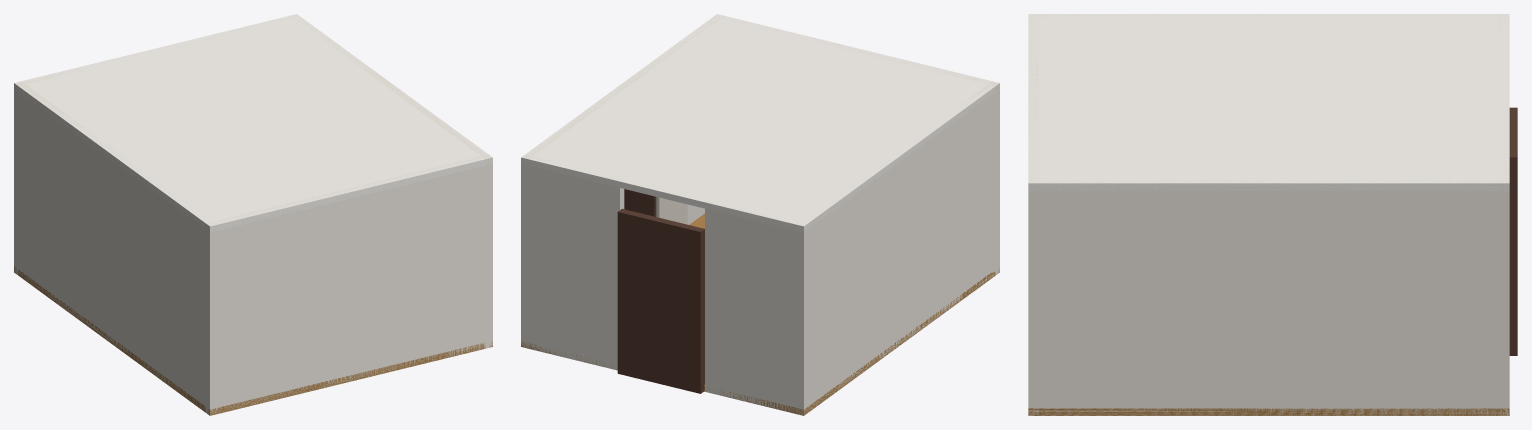
File: 169-Crucero_camarote_familiar.glb
3 renders of one model, left to right at view 1: azimuth 30°, elevation 25°; view 2: azimuth 150°, elevation 25°; view 3: azimuth 270°, elevation 25°, orthographic. The views are drawn at different scales.
Visible parts, largest first — view 1: SM_Cri_familiar_Techo, SM_Cri_familiar_Pared_Popa, SM_Cri_familiar_Pared_Izq, SM_Cri_familiar_Piso, SM_Cri_familiar_Pared_Der, SM_Cri_familiar_Pared_Frente; view 2: SM_Cri_familiar_Techo, SM_Cri_familiar_Pared_Izq, SM_Cri_familiar_Pared_Frente, SM_Cri_familiar_Pared_Frente2, SM_Cri_familiar_Puerta, SM_Cri_familiar_Pared_Der, SM_Cri_familiar_Piso, SM_Cri_familiar_Pared_Popa, SM_Cri_familiar_familiar_familiar_familiar_familiar_familia., SM_Cri_familiar_familiar_familiar_familiar_familiar_familiar; view 3: SM_Cri_familiar_Pared_Der, SM_Cri_familiar_Techo, SM_Cri_familiar_Piso, SM_Cri_familiar_Pared_Frente2, SM_Cri_familiar_Pared_Popa, SM_Cri_familiar_Puerta, SM_Cri_familiar_Pared_Izq.
Part boxes in pixels (x1,y1,x2,y2): SM_Cri_familiar_Techo: (14,14,492,232); SM_Cri_familiar_Pared_Popa: (205,154,492,415); SM_Cri_familiar_Pared_Izq: (14,81,217,415); SM_Cri_familiar_Piso: (14,266,492,415); SM_Cri_familiar_Pared_Der: (294,14,492,348); SM_Cri_familiar_Pared_Frente: (14,60,114,275); SM_Cri_familiar_Techo: (521,14,999,232); SM_Cri_familiar_Pared_Izq: (796,81,999,415); SM_Cri_familiar_Pared_Frente: (705,201,808,414); SM_Cri_familiar_Pared_Frente2: (521,154,624,370); SM_Cri_familiar_Puerta: (617,208,704,393); SM_Cri_familiar_Pared_Der: (521,14,723,348); SM_Cri_familiar_Piso: (521,213,999,415); SM_Cri_familiar_Pared_Popa: (713,15,999,275); SM_Cri_familiar_familiar_familiar_familiar_familiar_familia.: (624,189,656,216); SM_Cri_familiar_familiar_familiar_familiar_familiar_familiar: (656,197,687,224); SM_Cri_familiar_Pared_Der: (1028,179,1509,415); SM_Cri_familiar_Techo: (1028,14,1509,191); SM_Cri_familiar_Piso: (1028,408,1509,415); SM_Cri_familiar_Pared_Frente2: (1499,126,1509,415); SM_Cri_familiar_Pared_Popa: (1028,14,1038,415); SM_Cri_familiar_Puerta: (1509,107,1517,355); SM_Cri_familiar_Pared_Izq: (1029,14,1509,18).
Size of the model in its own units: 3.75 by 2.4 by 4.58.
